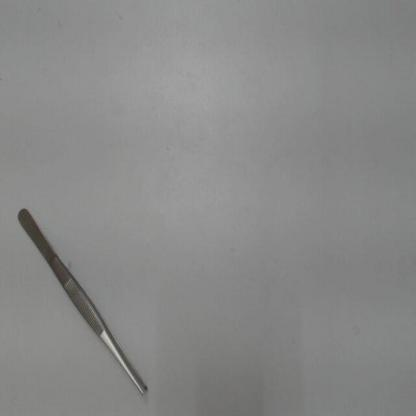Gillies Toothed Dissector: (8, 198, 158, 409)
